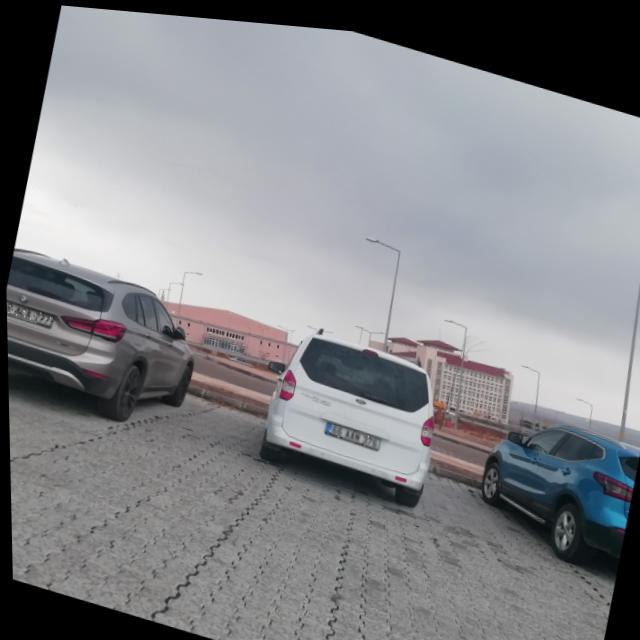license_plate: (322, 417, 380, 443), (5, 300, 51, 325)
